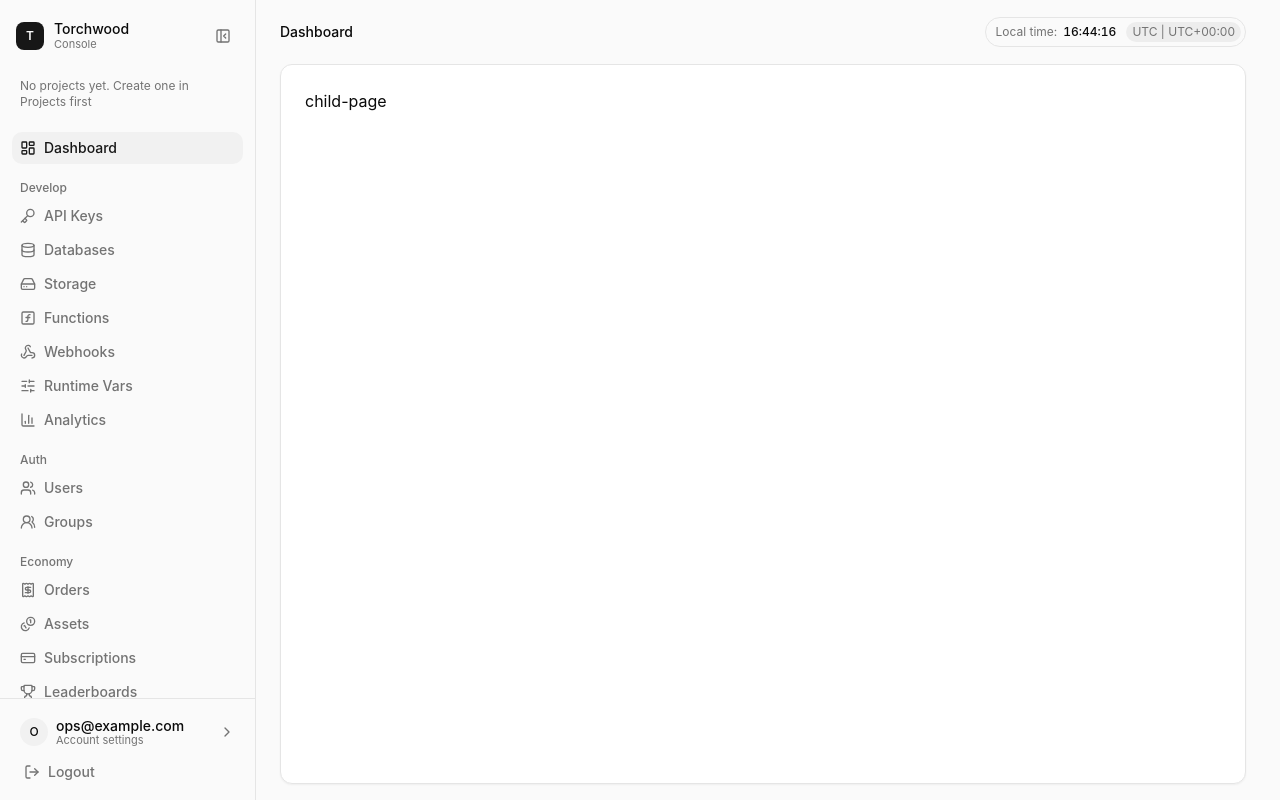
Layout 侧栏收起 › 默认展开，点「收起菜单」切到图标栏并持久化
The width and height of the screenshot is (1280, 800).
expect the text "Storage" is shown: met, box [44,274,96,294]
Click the button titled "Collapse menu".
click(223, 36)  # box [203,16,243,56]
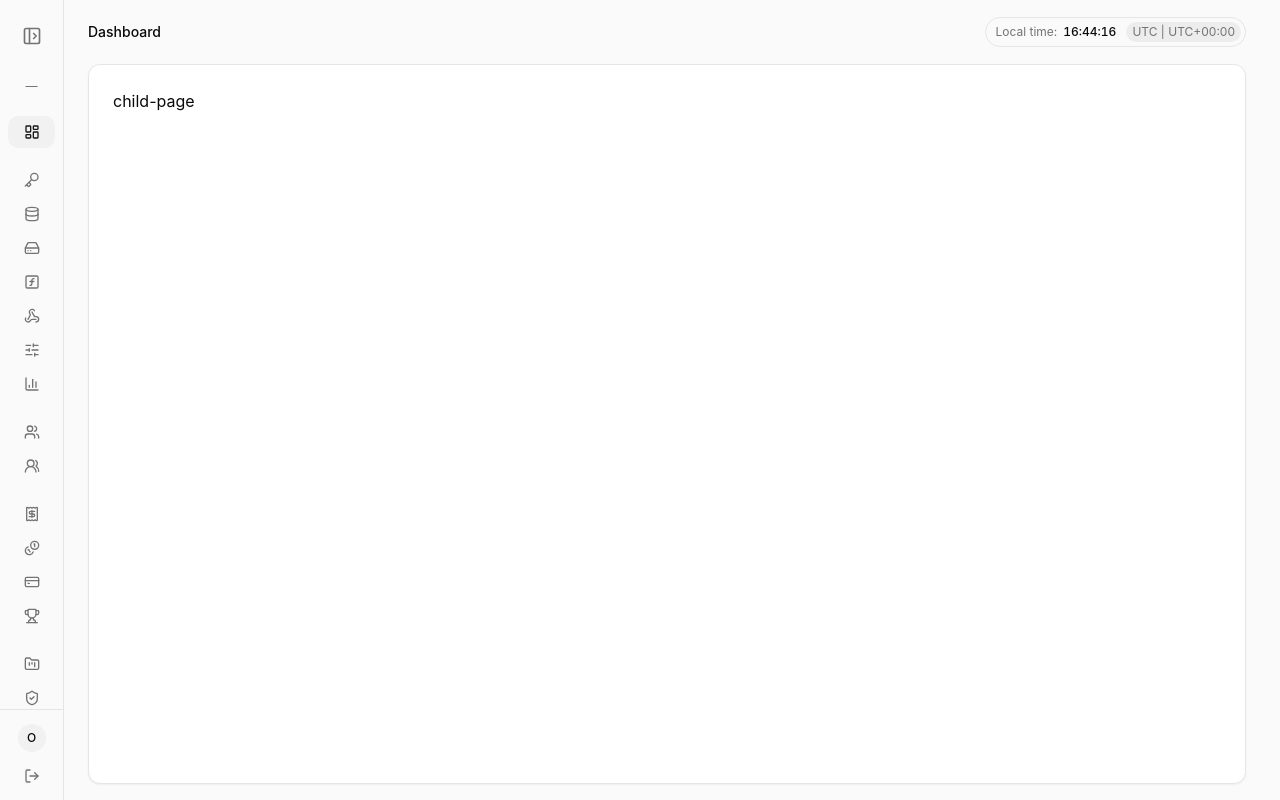
expect the link titled "Storage" is shown: met, box [24,240,40,256]
expect the text "Storage" is gone: met
expect the button titled "Expand menu" is shown: met, box [12,16,51,56]
